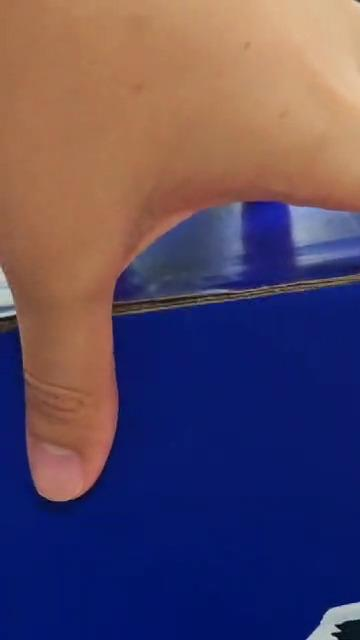B_R1: (24, 545, 360, 640)
